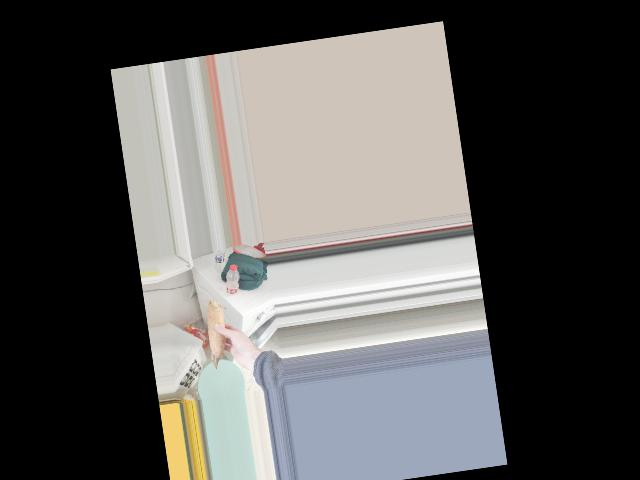sweet_potato: (204, 304, 235, 368)
